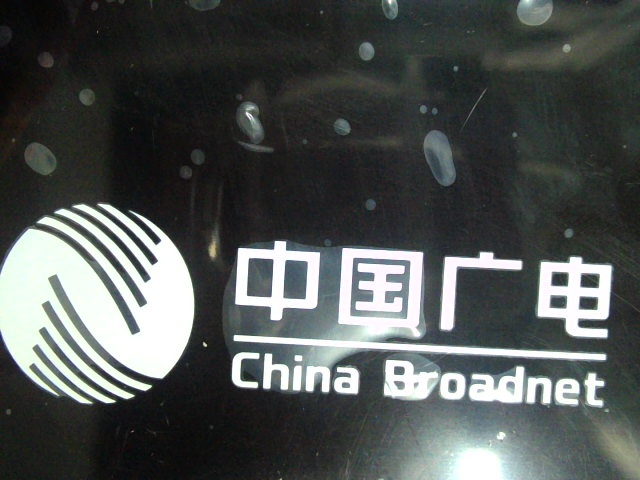AW_ChinaBroadNet: (2, 199, 619, 426)
